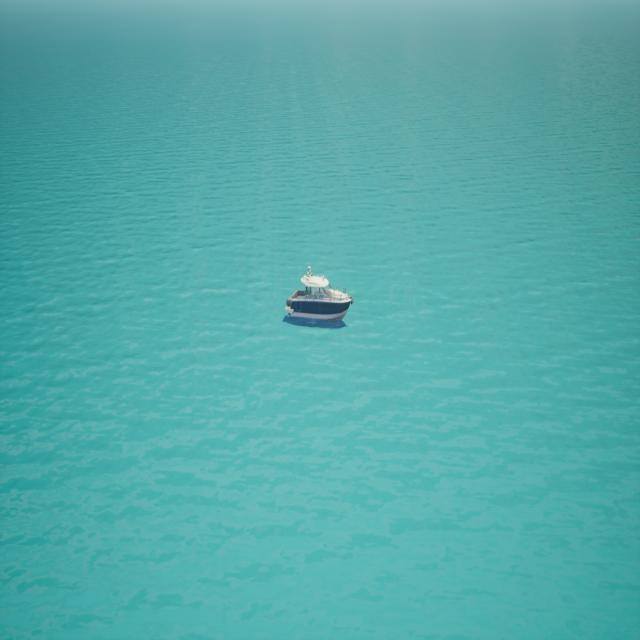ship: (282, 265, 354, 326)
